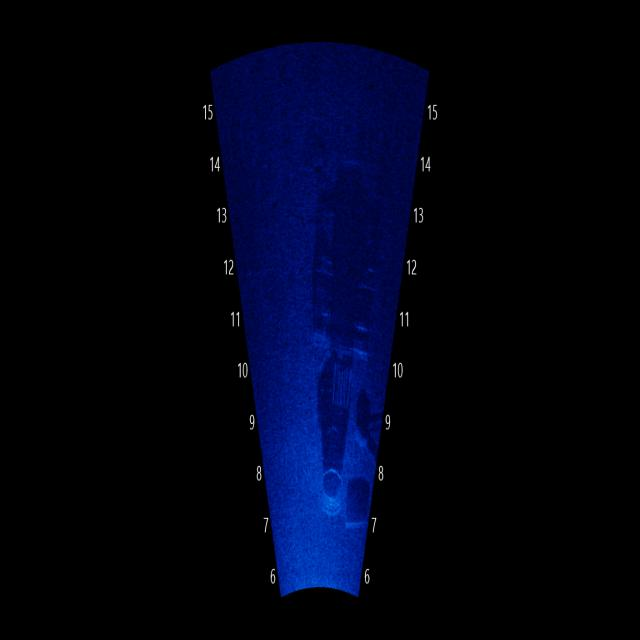circle: (313, 464, 342, 532)
square: (300, 150, 385, 370)
